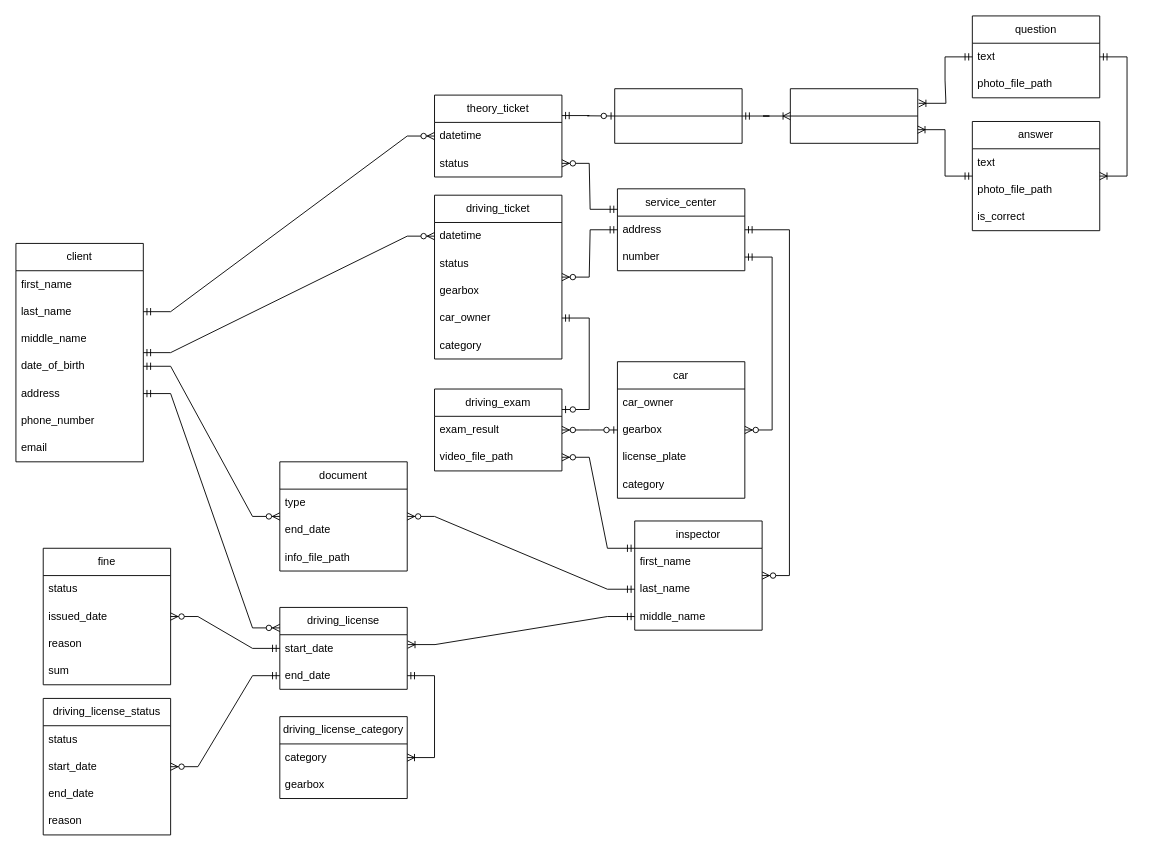
This 1151x851 diagram has some shape labels left out. The shapes that lost their labels are listed below. From the top down, each one's centre as x and y in pixels, then its label:
(678,115): theory_exam
(853,115): theory_exam_result
